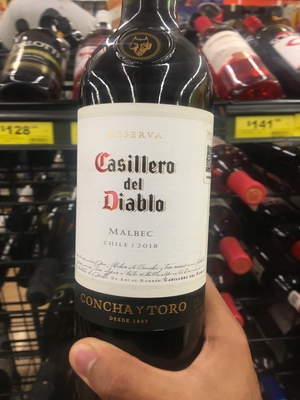casillero del diablo malbec: (72, 8, 236, 373)
